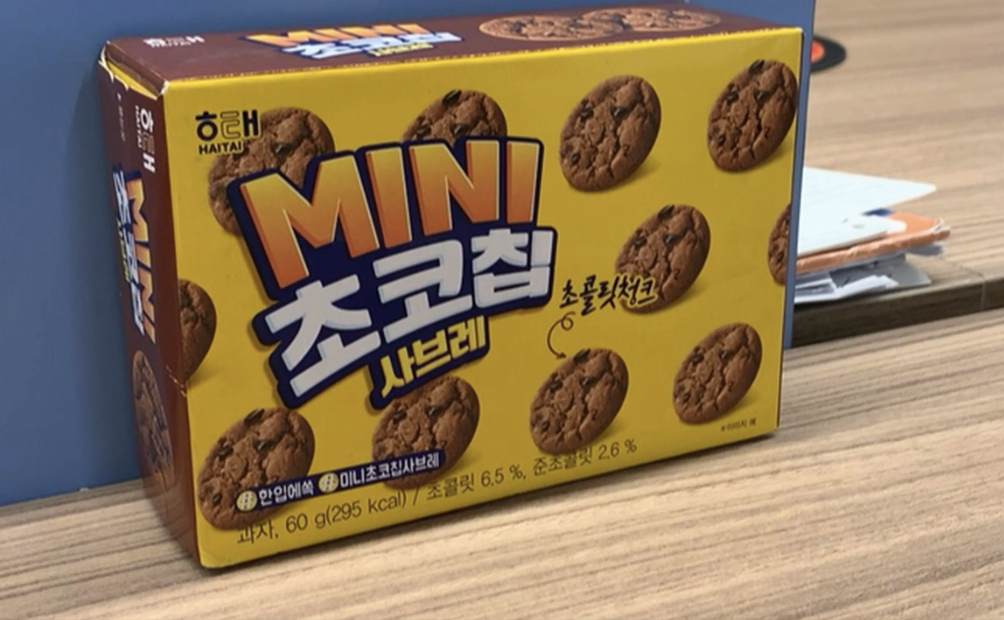cookies_1g-99g: (184, 107, 770, 426)
